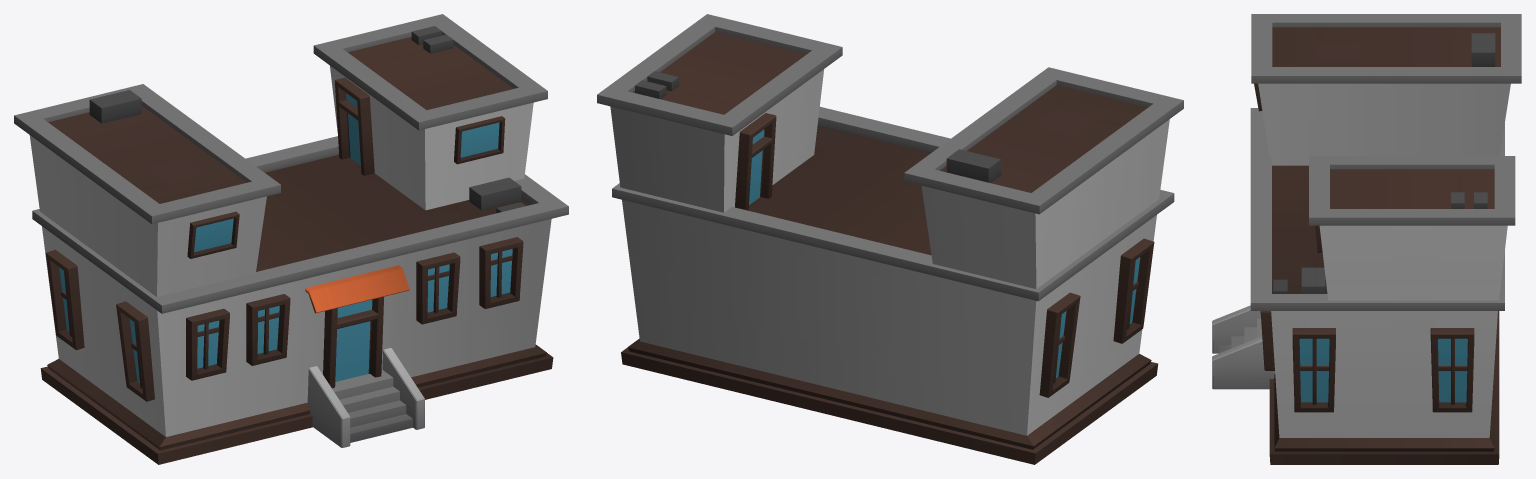
The model's file is building_04.fbx.
3 views of the same model, side by side, from view 1: azimuth 30°, elevation 25°; view 2: azimuth 150°, elevation 25°; view 3: azimuth 270°, elevation 25° (orthographic). The views are drawn at different scales.
Visible parts, largest first — view 1: Building_04; view 2: Building_04; view 3: Building_04.
Boxes of the visible parts, <box> form: Building_04: <box>14,14,568,464</box>; Building_04: <box>597,14,1183,464</box>; Building_04: <box>1212,14,1521,464</box>.
Size of the model in its own units: 796 by 483 by 511.
